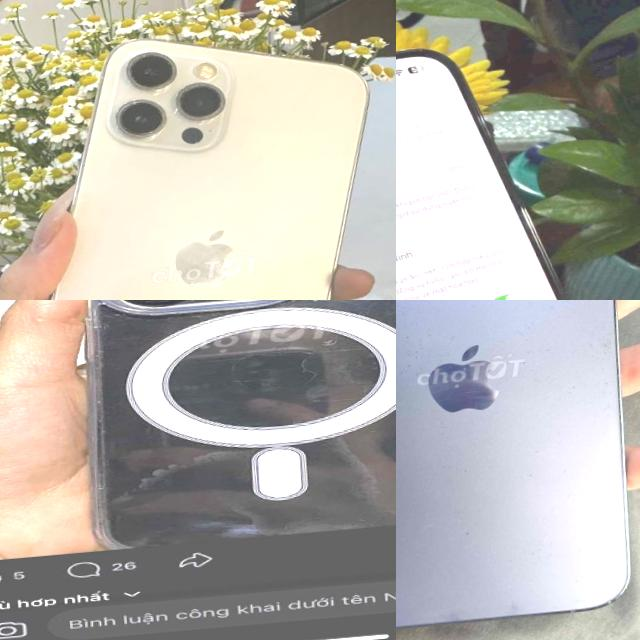gen_14: (41, 300, 396, 559), (396, 300, 640, 640), (396, 28, 640, 300)
gen_15: (0, 21, 396, 300)
